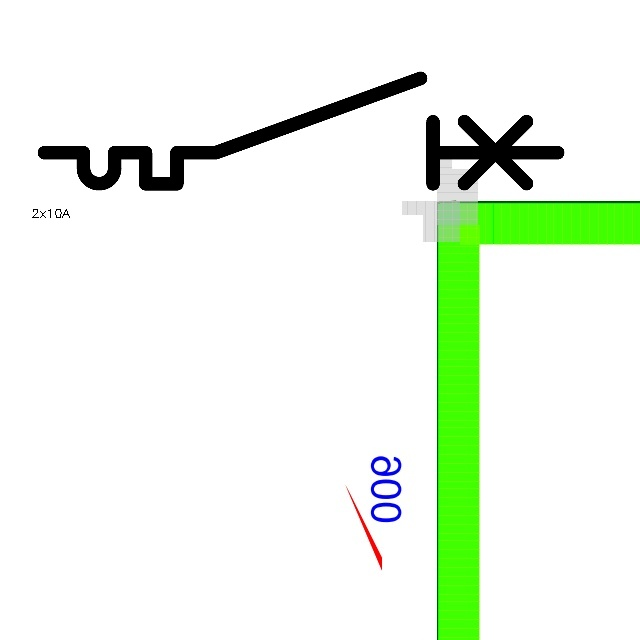interruptor_termomagnetico: (31, 65, 570, 197)
